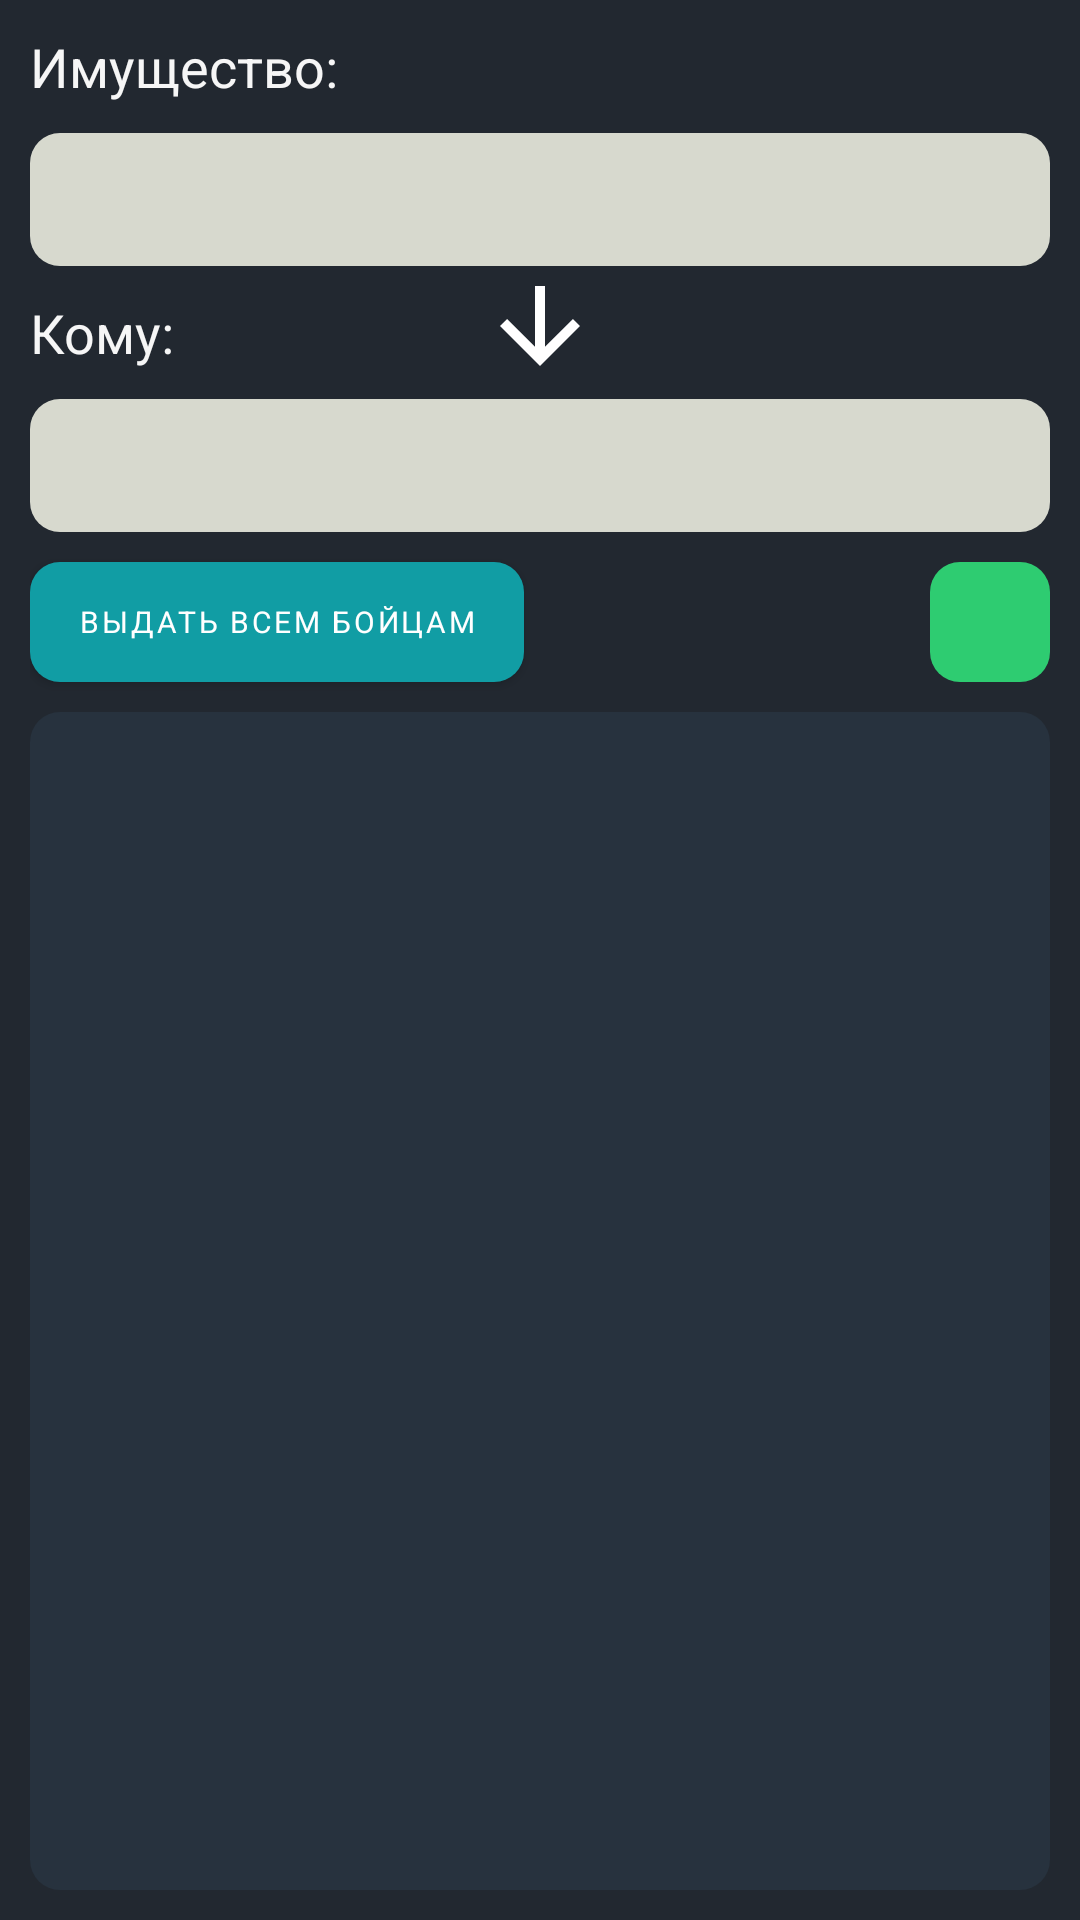

Icon click points for this 1080×1920 phone screenshot, format [x,y]:
arrow down: [540,326]
